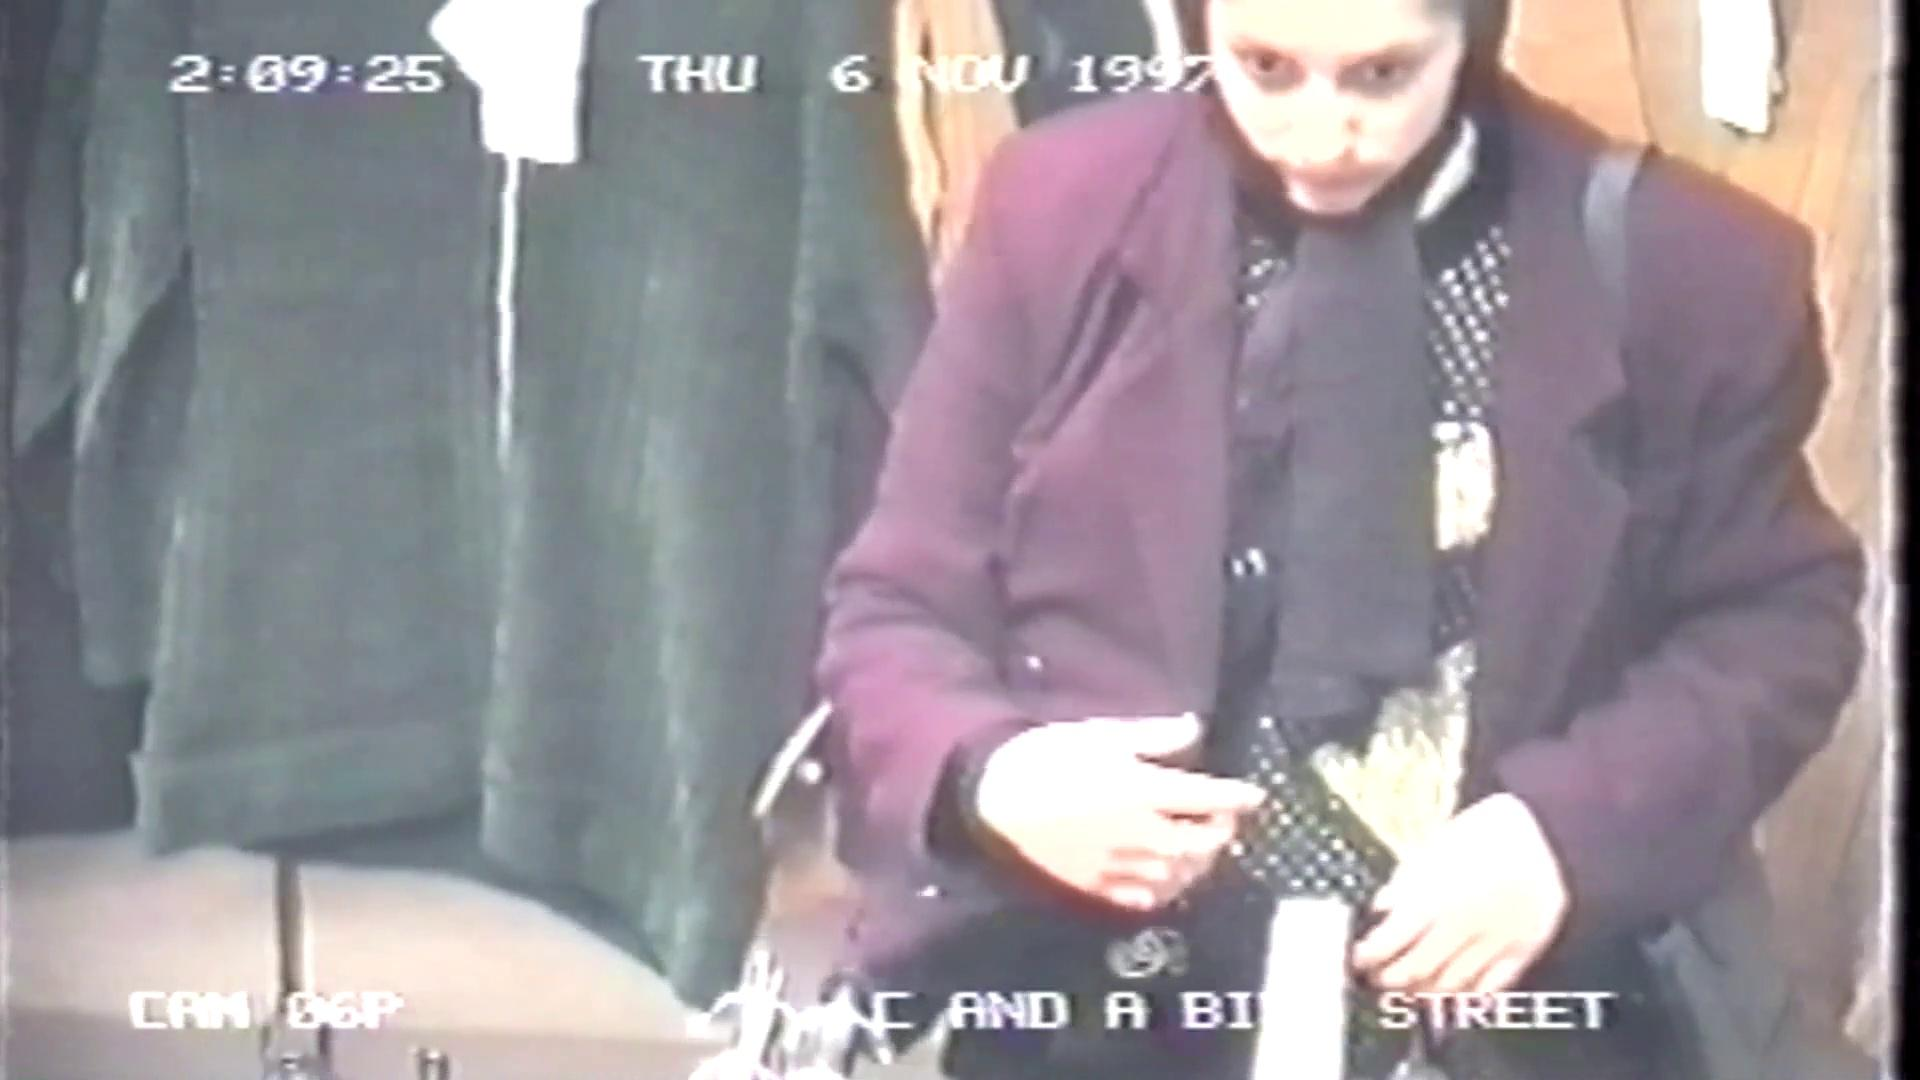3: (618, 7, 1891, 1080)
persone: (1625, 839, 1854, 1063)
